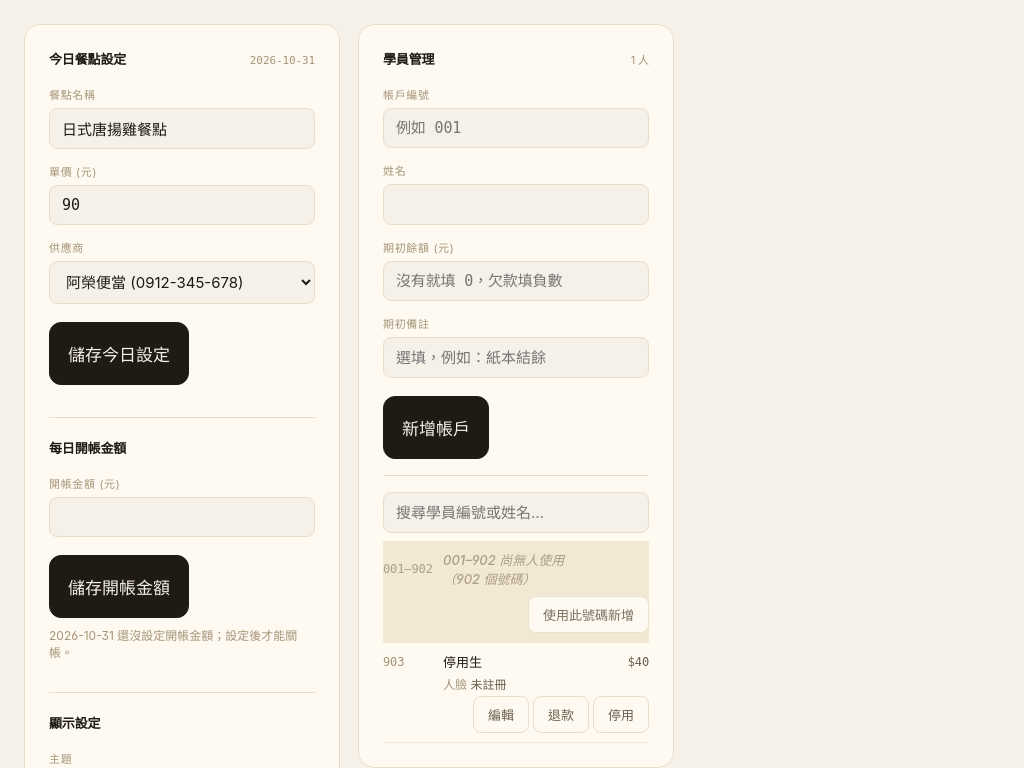
U4 #5：停用且今日無交易的帳戶仍可退款（F3 不必先恢復帳戶） › F3 的退款寫入失敗時留在對話框顯示原因
The width and height of the screenshot is (1024, 768).
Click the button with aria-label "退款 903".
click(561, 714)  # box [533,696,589,733]
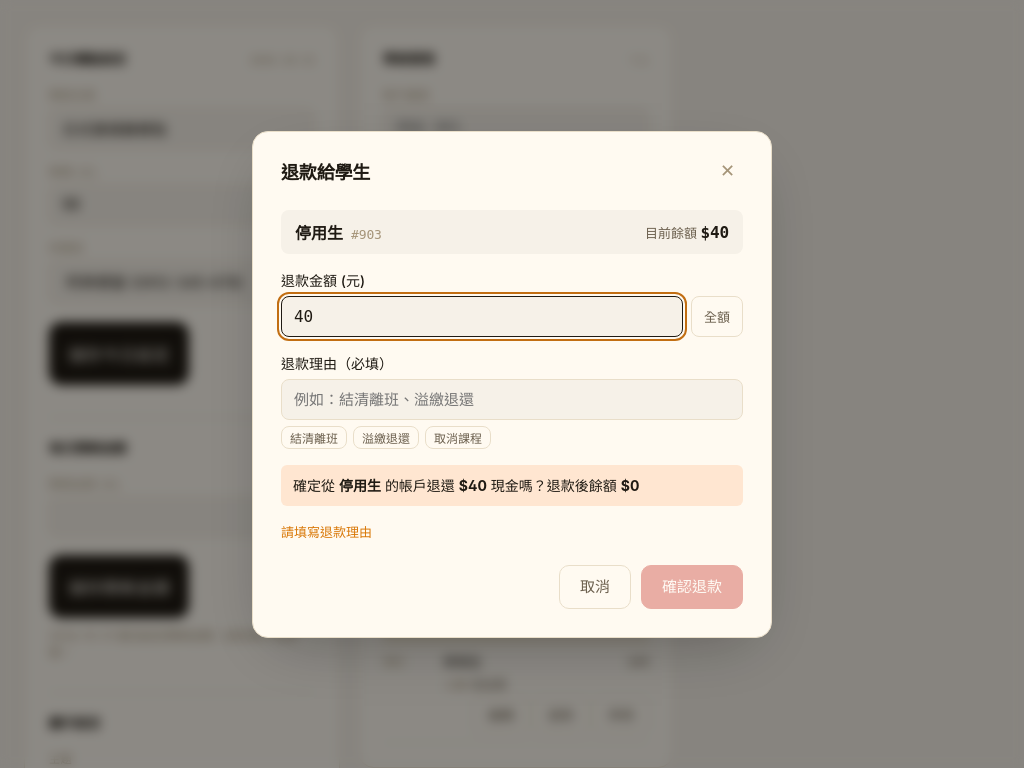
Now the dialog "退款給學生" is shown, box [252,130,772,638]
Click the button "結清離班".
click(314, 437)  # box [281,426,347,448]
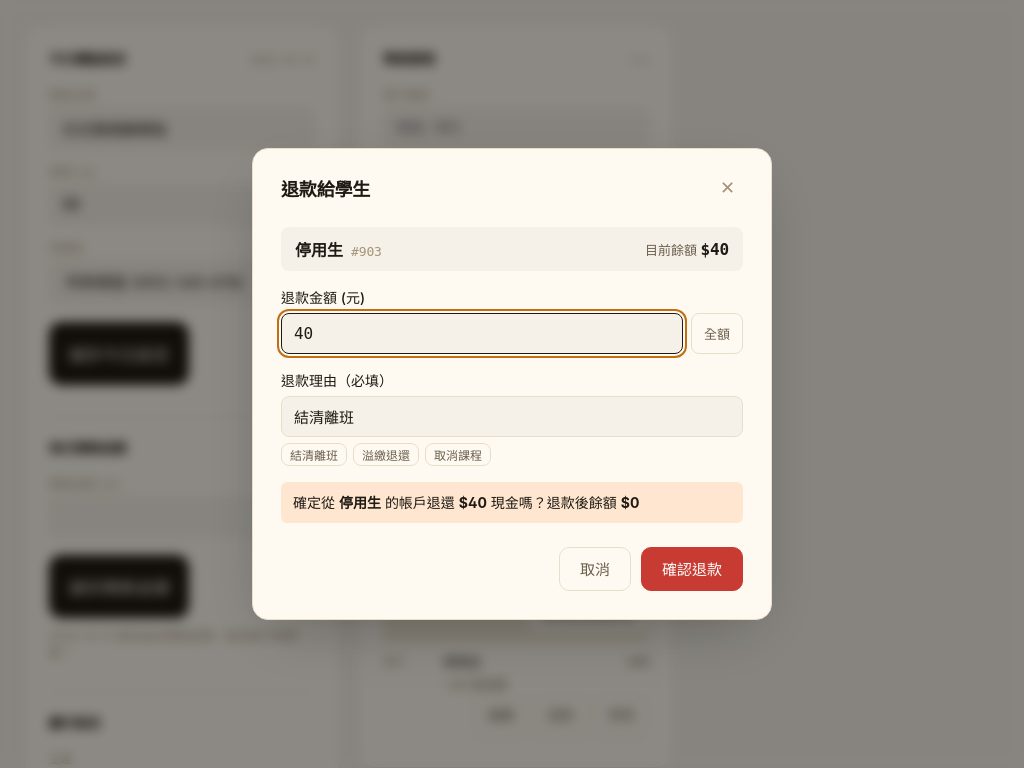
Click the button "確認退款".
click(692, 569)  # box [641,547,743,591]
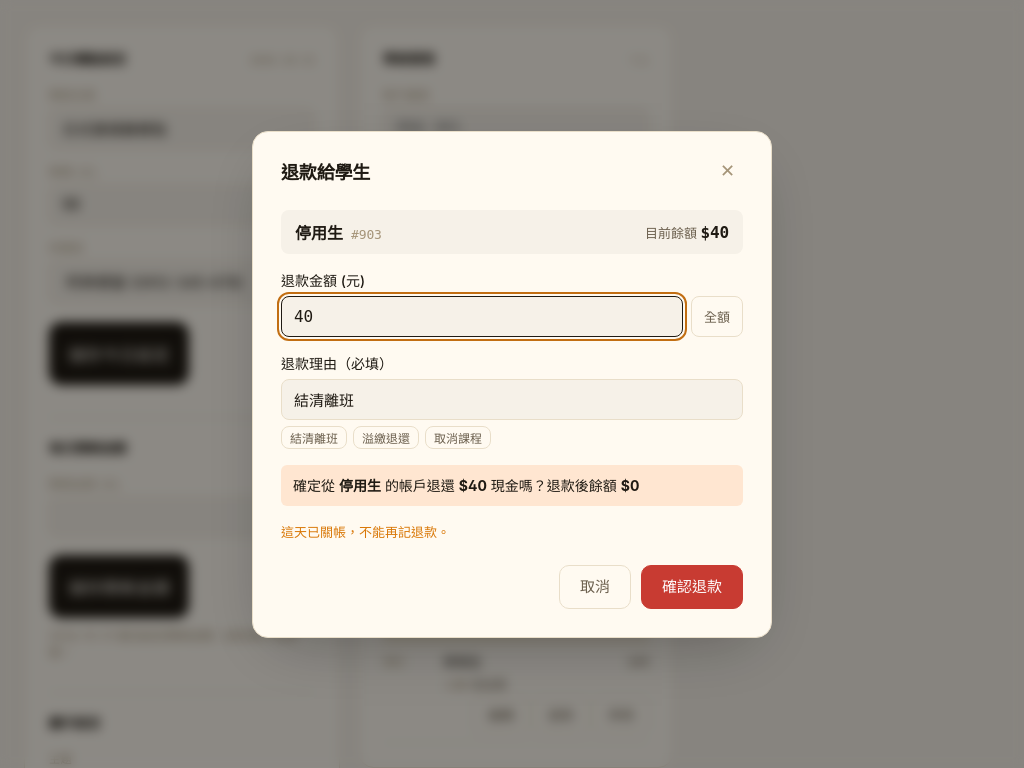
Now the dialog "退款給學生" is shown, box [252,130,772,638]
Now the message reads "這天已關帳，不能再記退款。", box [281,524,450,540]
